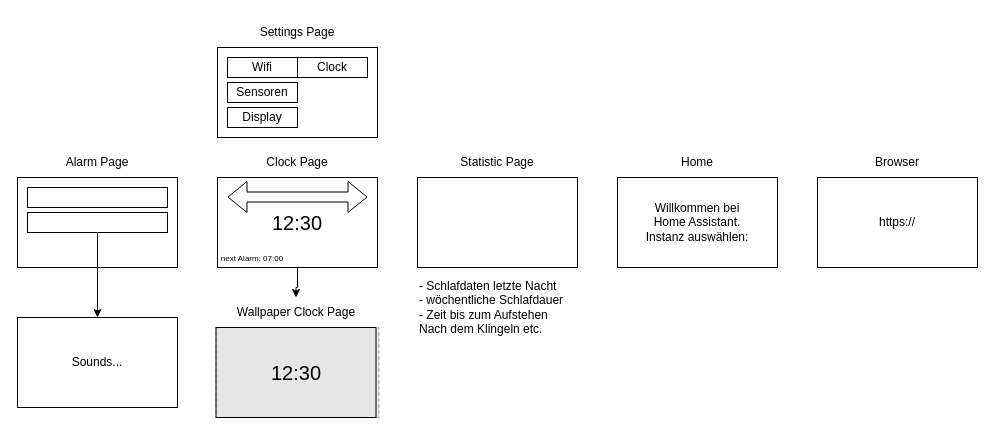
Image size: 995x435. Some labels were removed from this diagram. Grey dashed boxes stand in for pictures. Here are the shapes that lost their labels. From the top down, the box of each, then its label:
(26, 186, 168, 208): ON wecker1: 07:00 Mo,Di
(26, 212, 168, 232): OFF wecker2: 07:00 Fr
